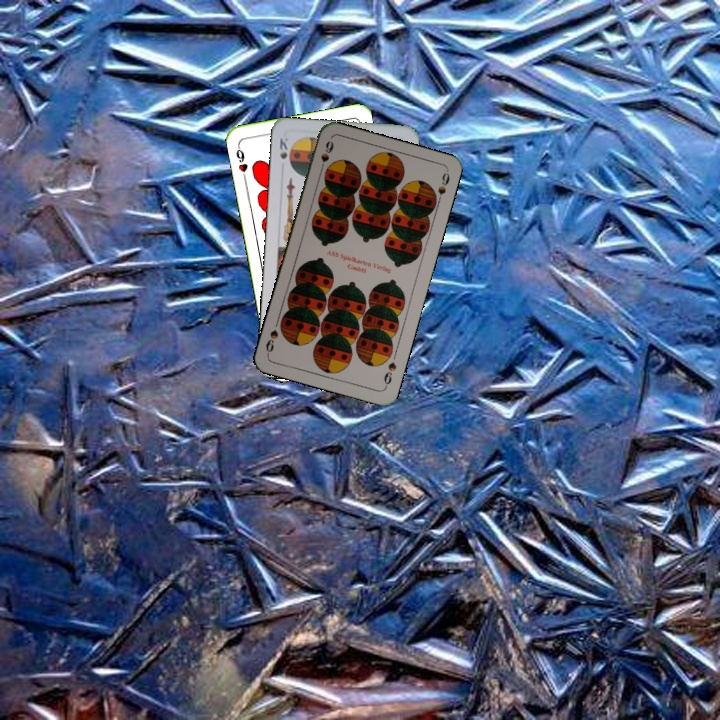H9: (232, 140, 250, 181)
S9: (316, 136, 336, 176), (380, 358, 399, 390)
SK: (275, 134, 292, 162)
